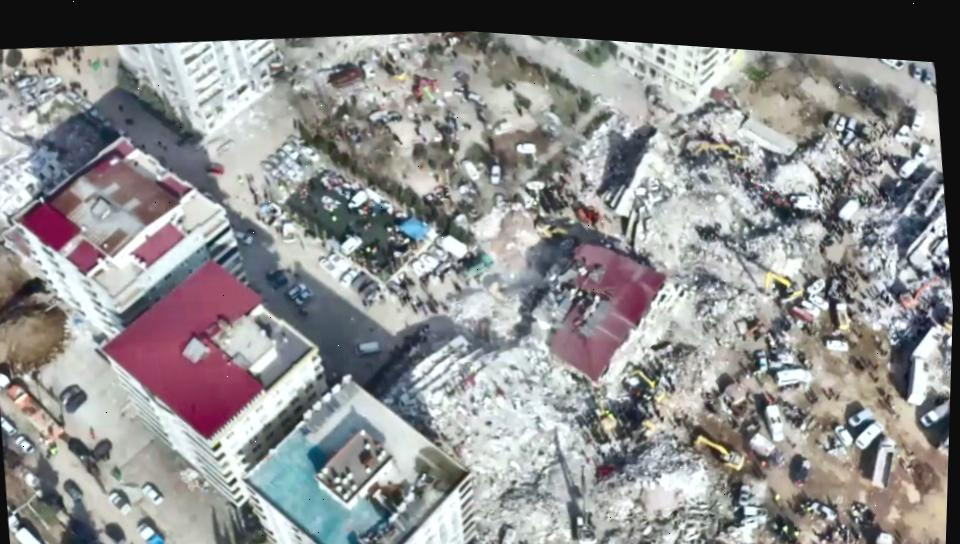kapali: (348, 297, 836, 544)
